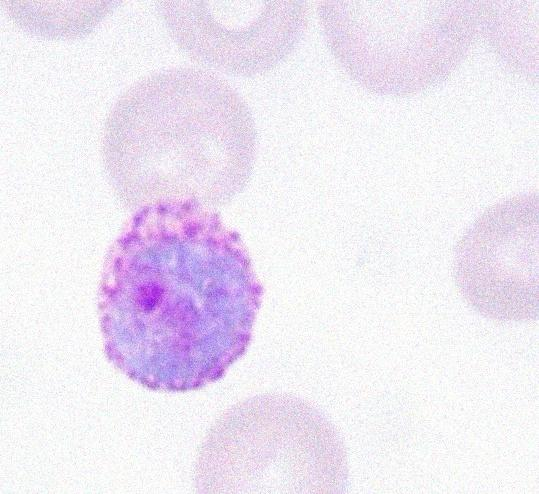Infected: (92, 199, 264, 393)
Uninfected: (99, 66, 260, 216)
